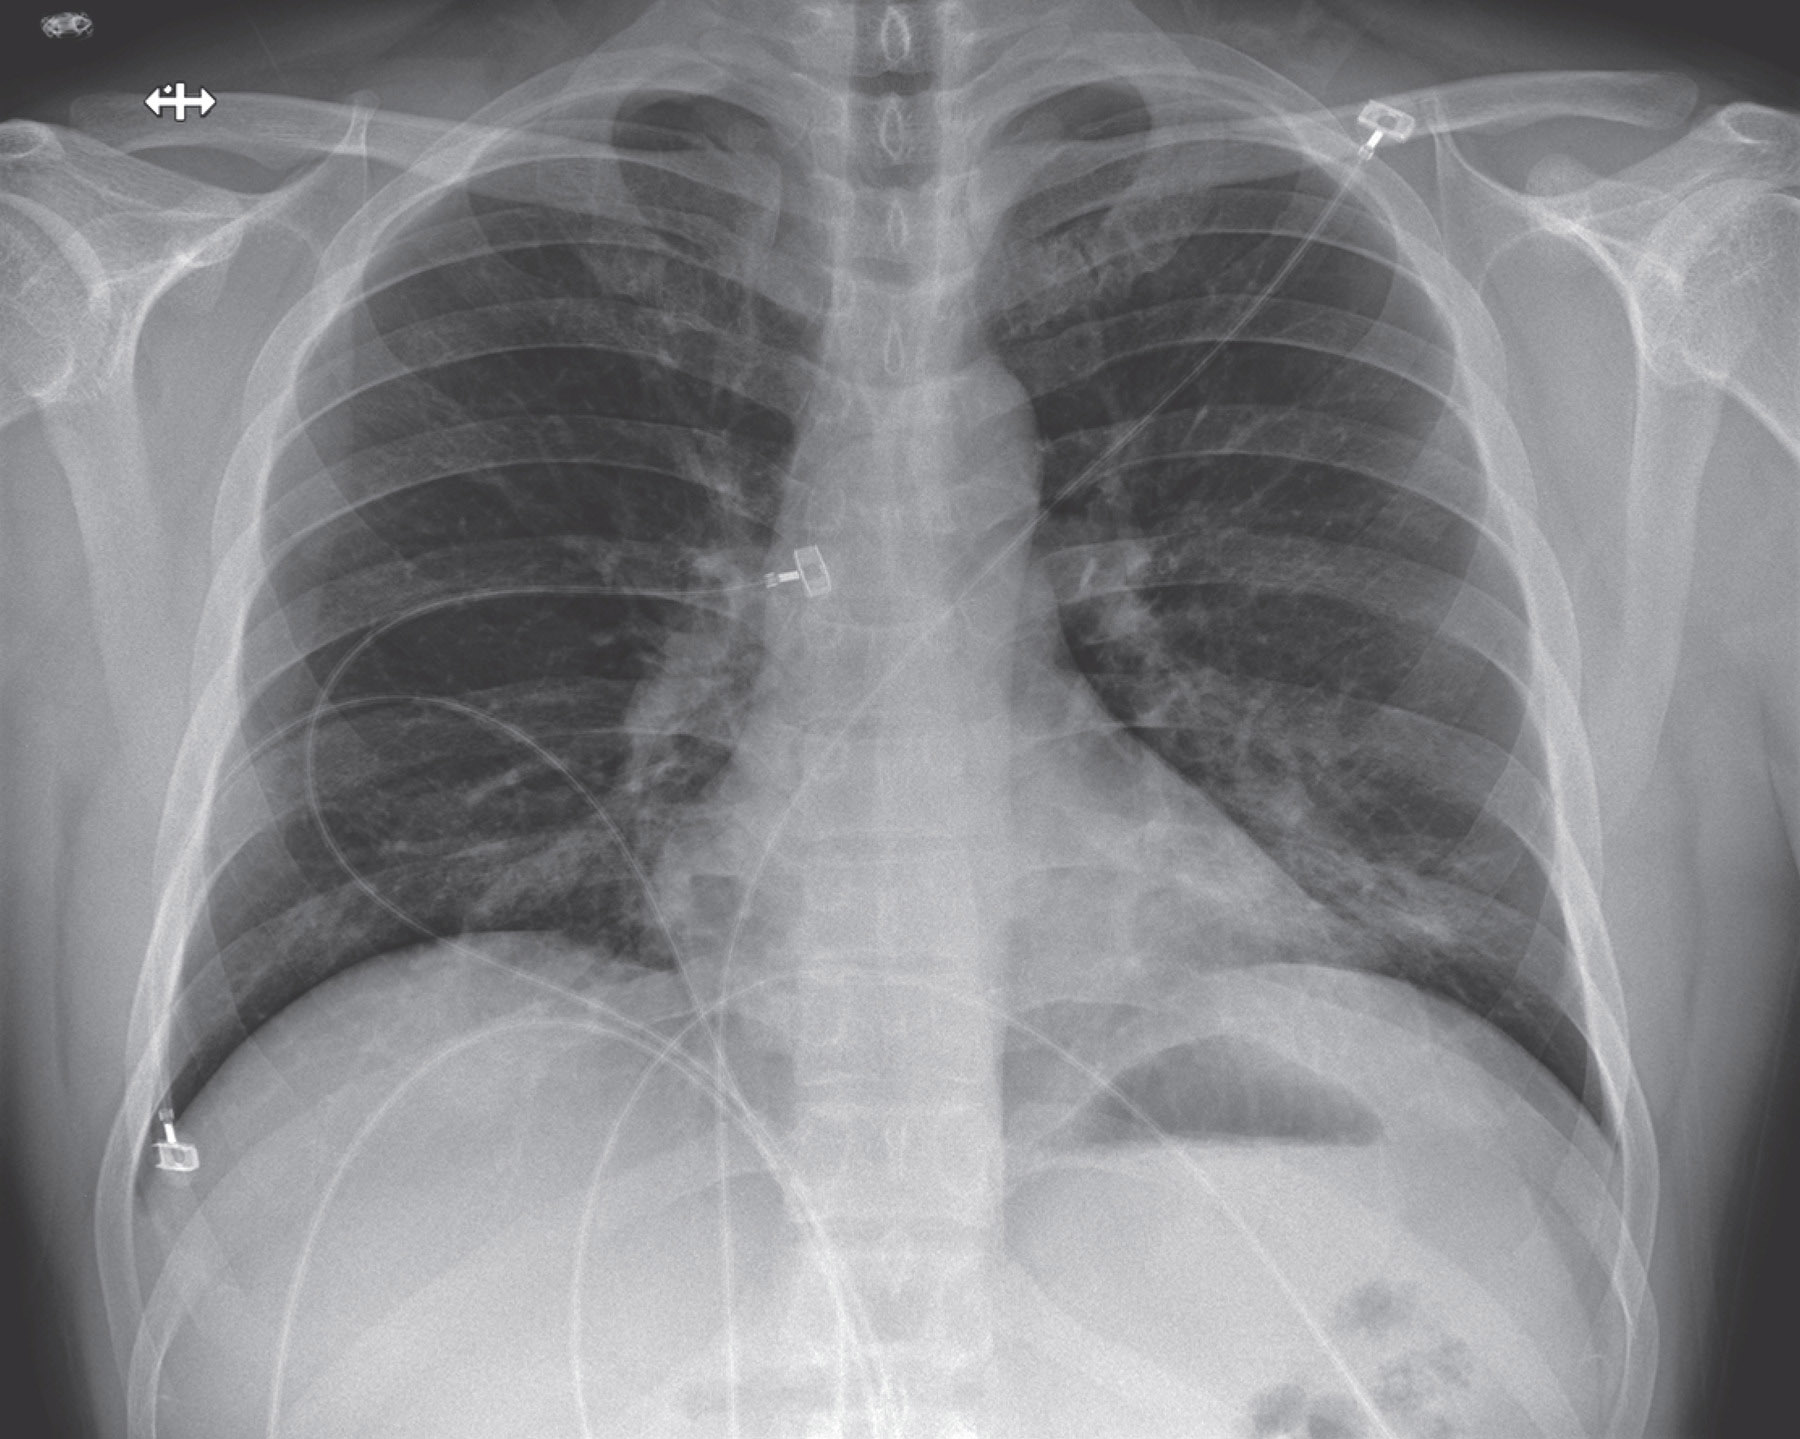Mildw: (135, 93, 830, 1153), (995, 78, 1625, 1161)
